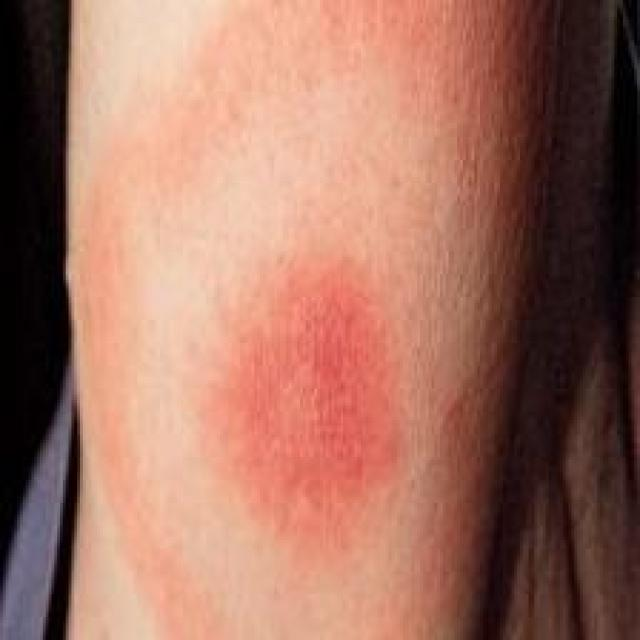kene: (56, 12, 587, 639)
